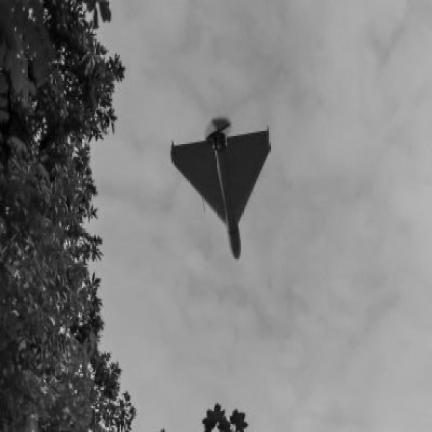Shahed: (171, 117, 270, 258)
